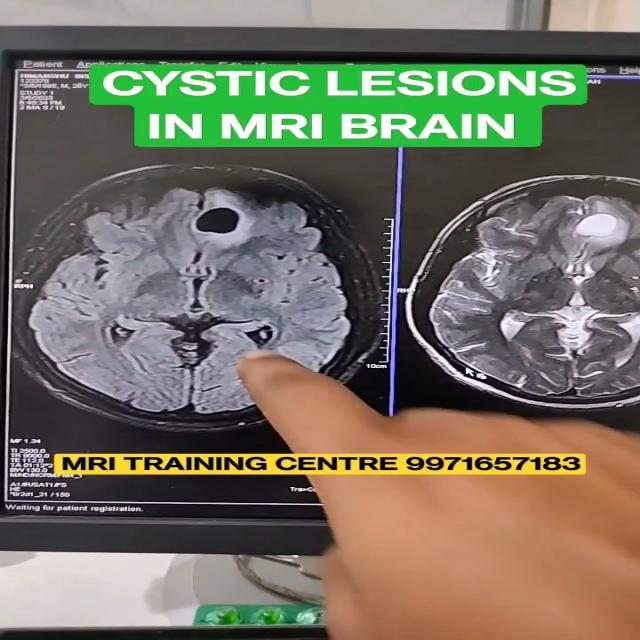tumor: (546, 209, 640, 251), (191, 199, 272, 241)
